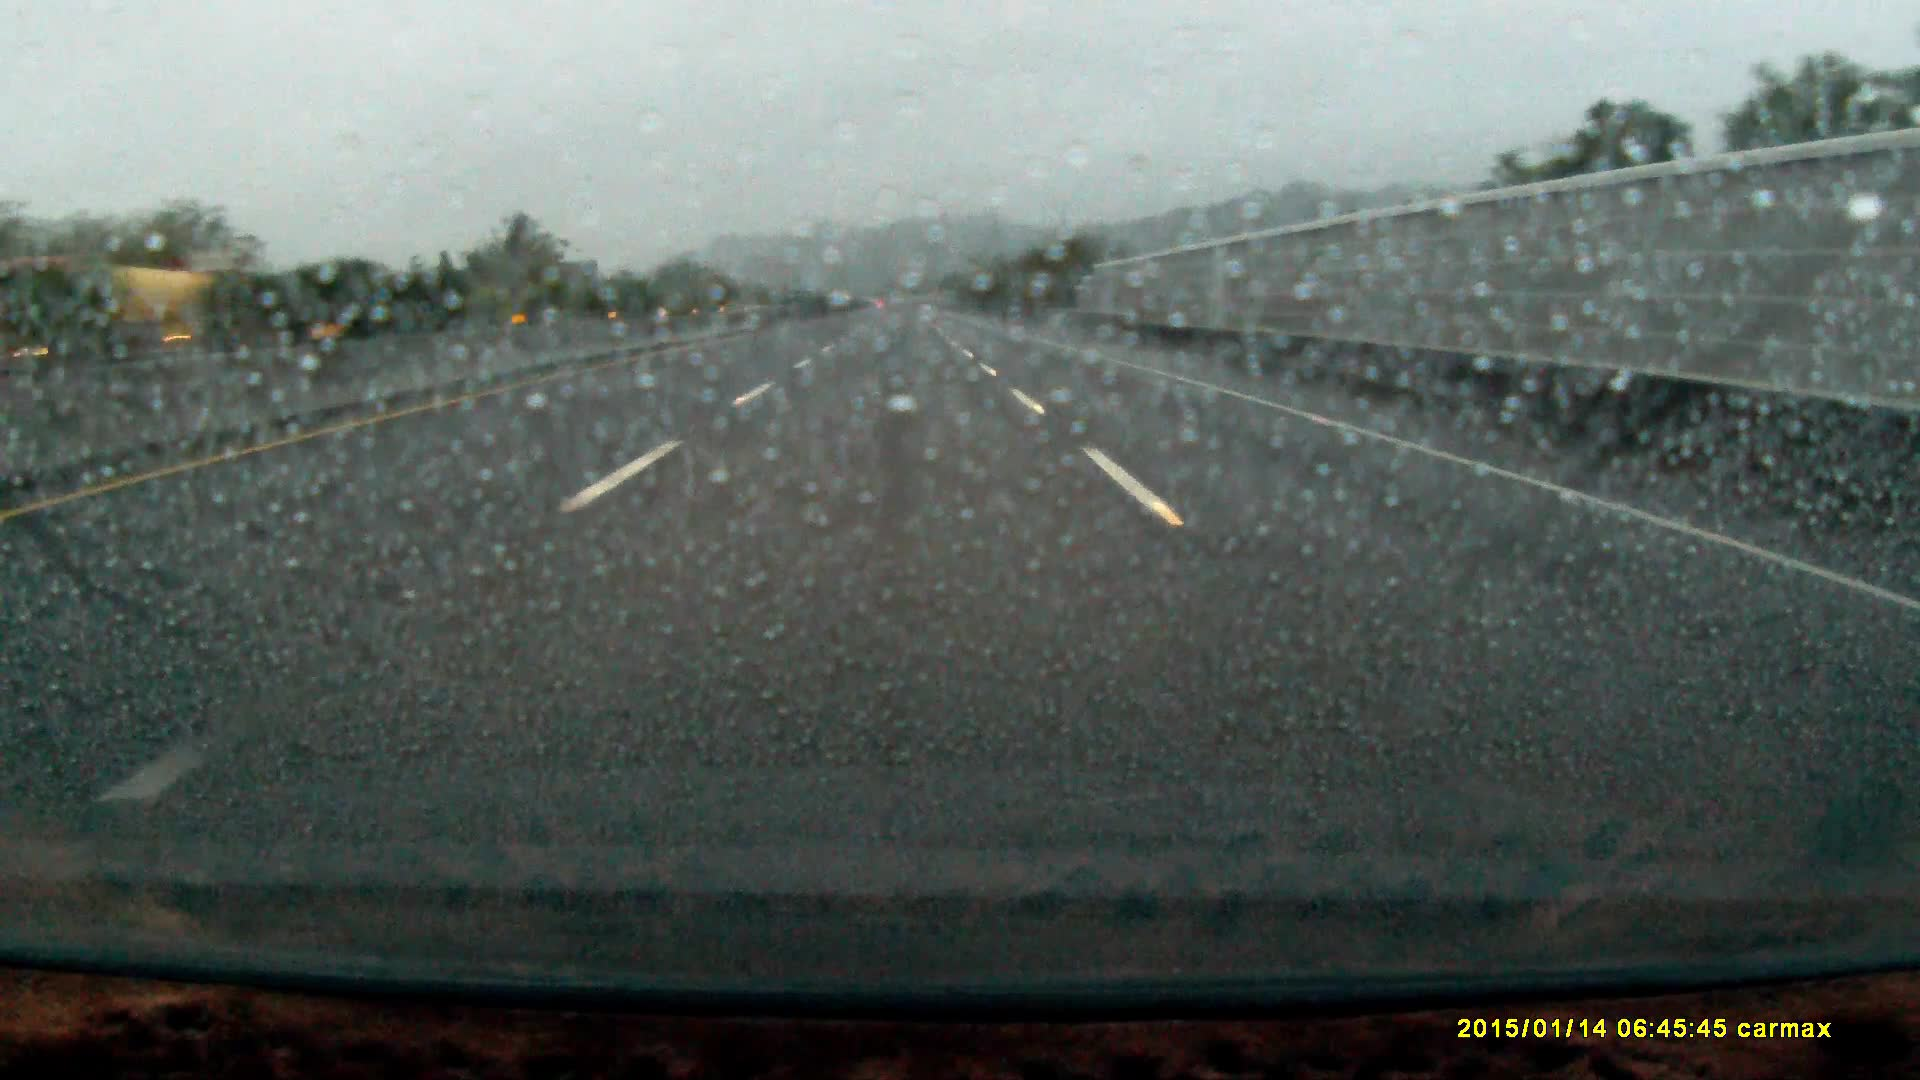vehicle: (1, 251, 282, 378)
